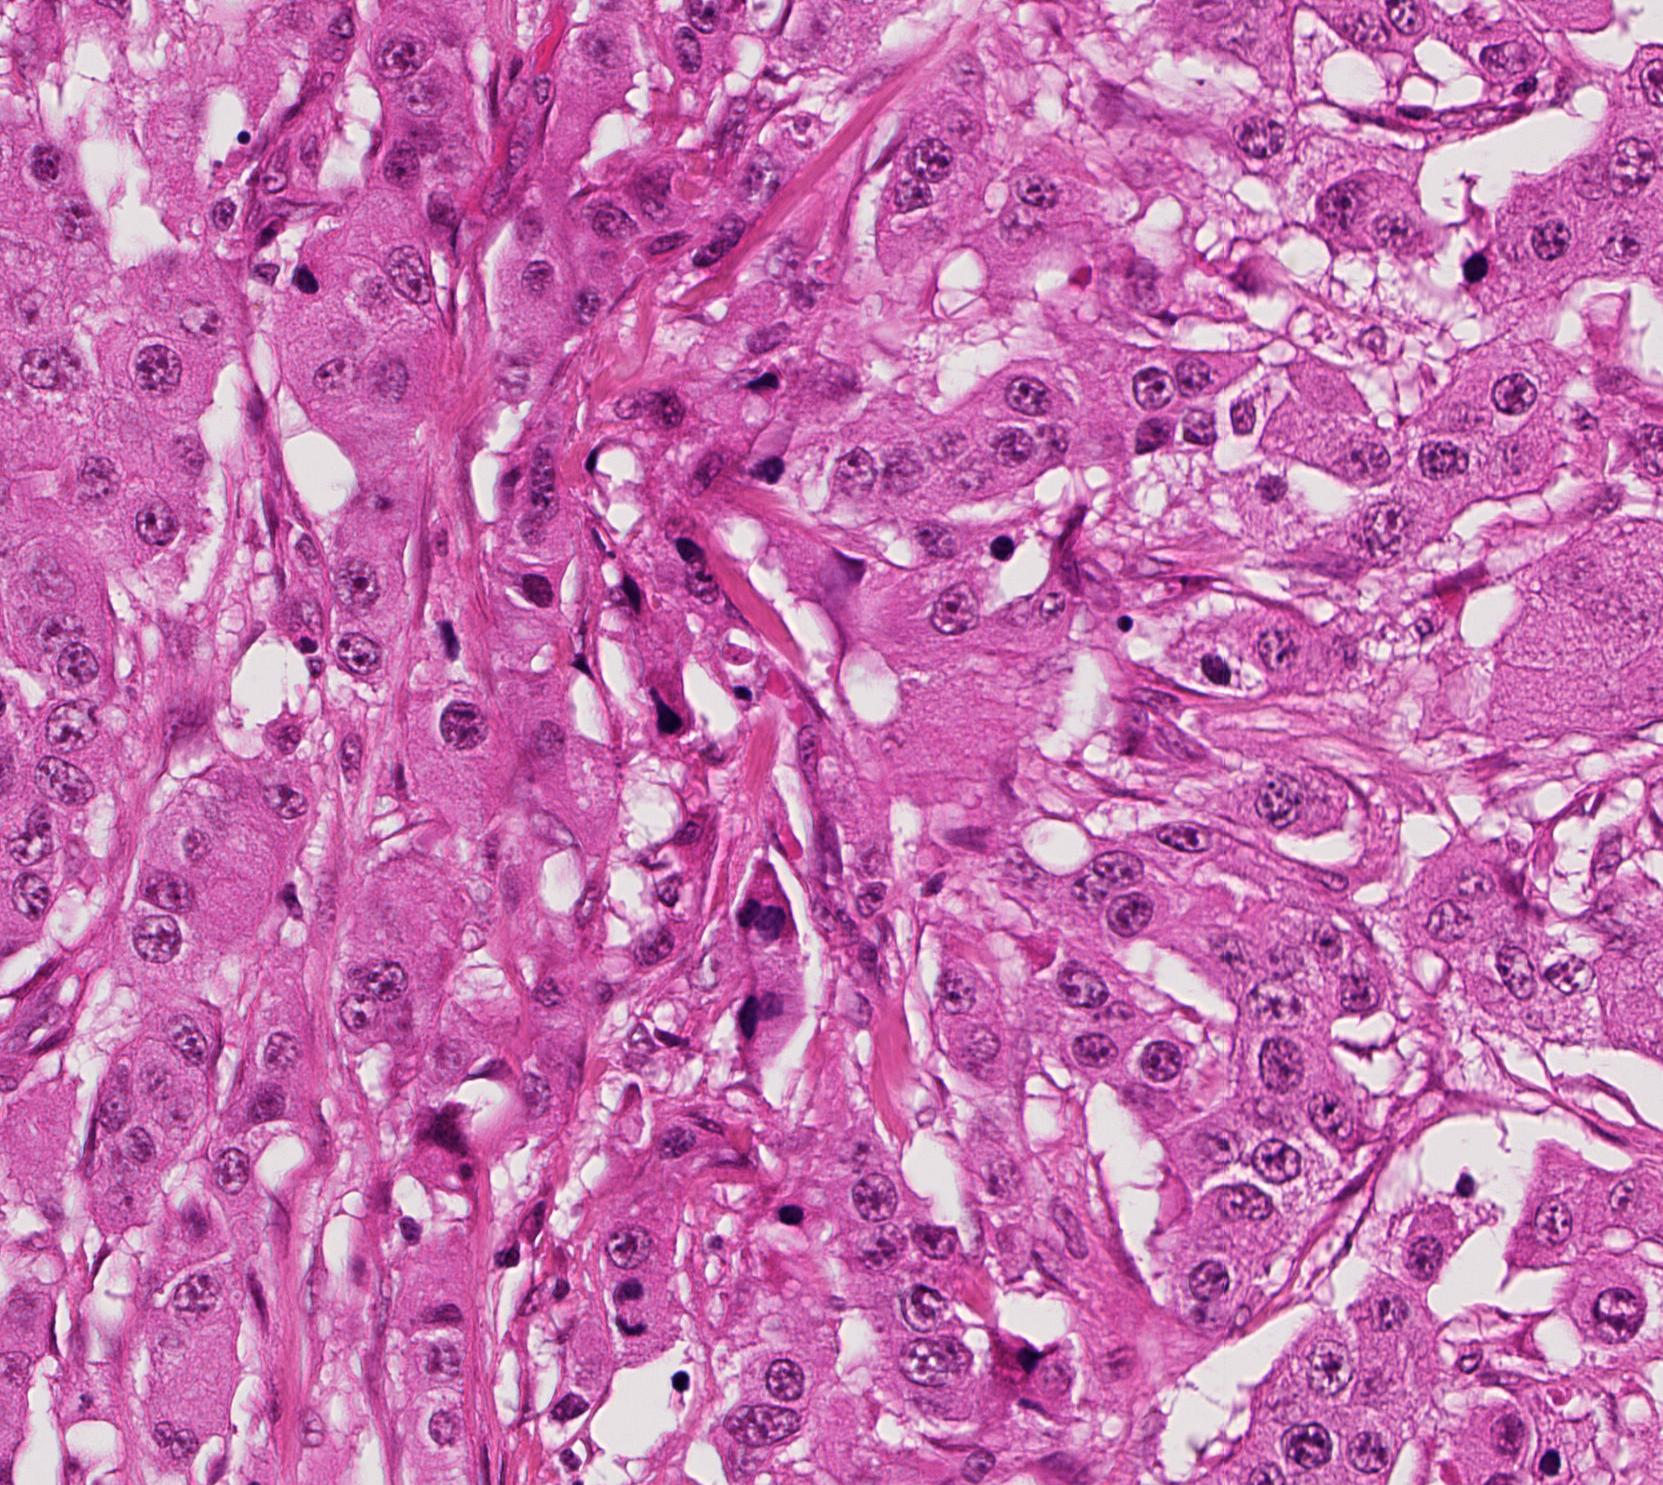mitosis: (601, 1274, 659, 1334)
